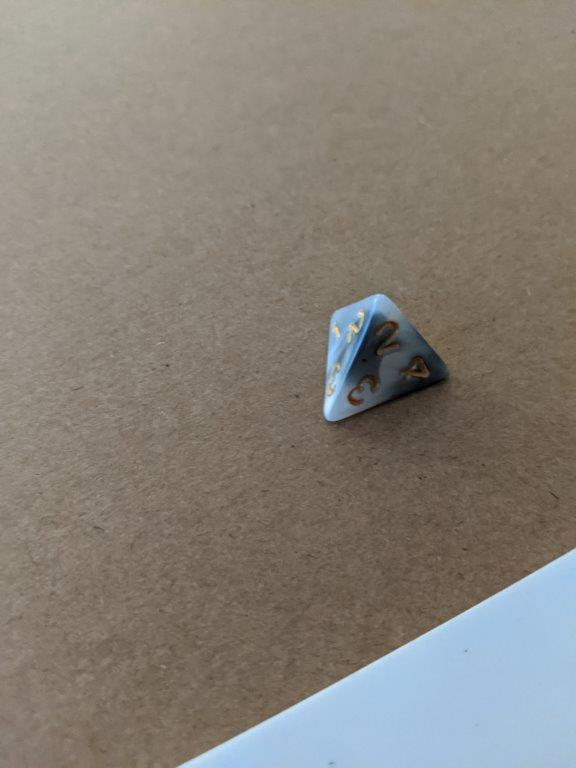d4-2: (314, 291, 454, 422)
